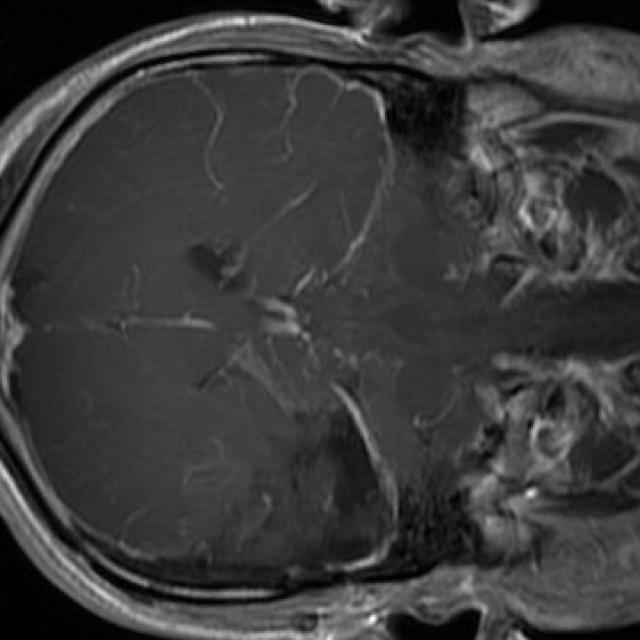glioma: (212, 382, 398, 585)
